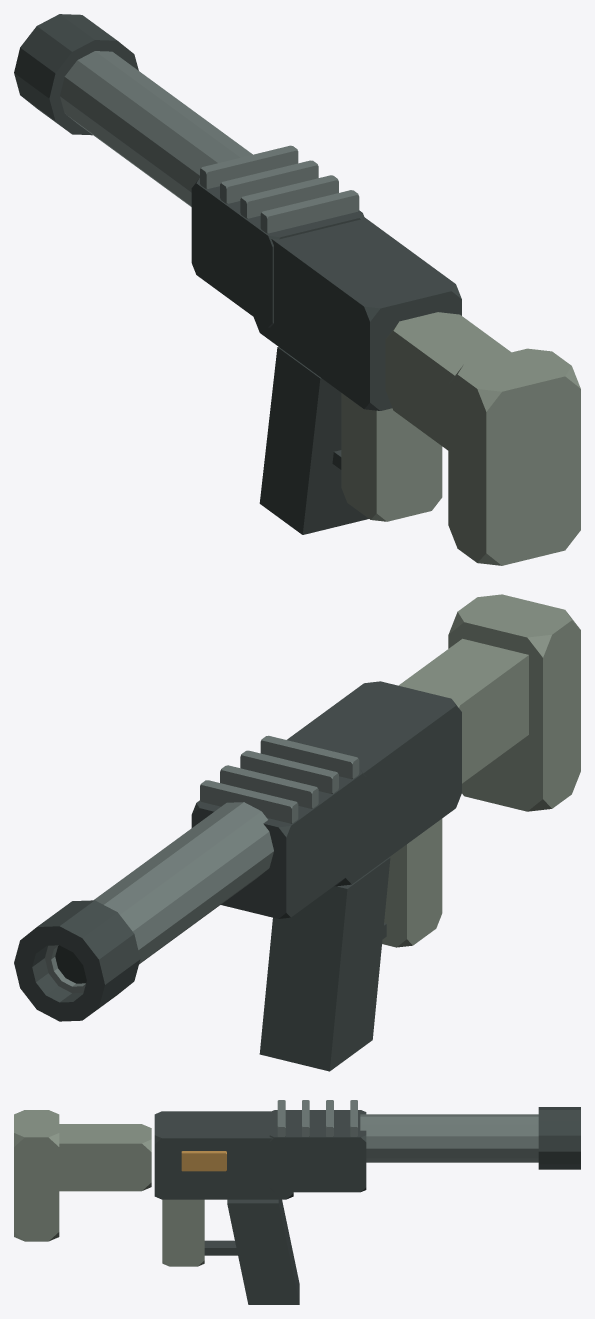
File: weapon_rifle.glb
3 renders of one model, top to bottom at view 1: azimuth 30°, elevation 25°; view 2: azimuth 150°, elevation 25°; view 3: azimuth 270°, elevation 25°, orthographic. The views are drawn at different scales.
Visible parts, largest first — view 1: weapon_rifle; view 2: weapon_rifle; view 3: weapon_rifle.
Part boxes in pixels (bbox=[...]): weapon_rifle: bbox=[14, 14, 580, 565]; weapon_rifle: bbox=[14, 594, 580, 1071]; weapon_rifle: bbox=[14, 1100, 580, 1304].
Size of the model in its own units: 0.1154 by 0.3366 by 0.9364.
